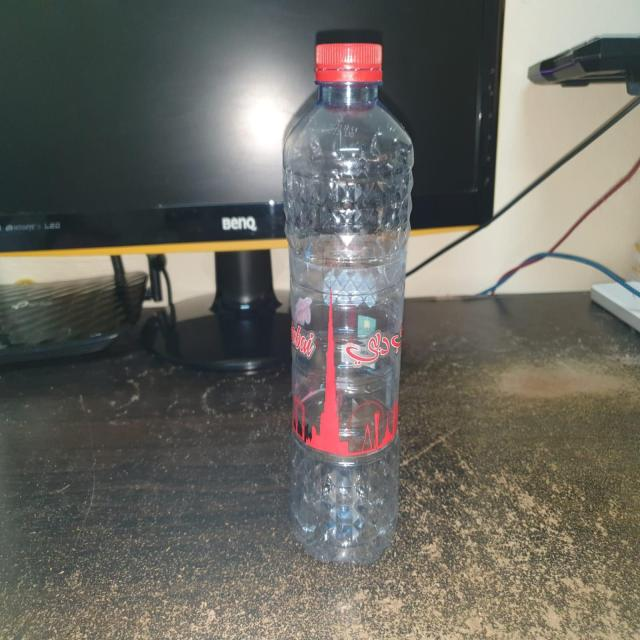bottle: (274, 31, 424, 573)
